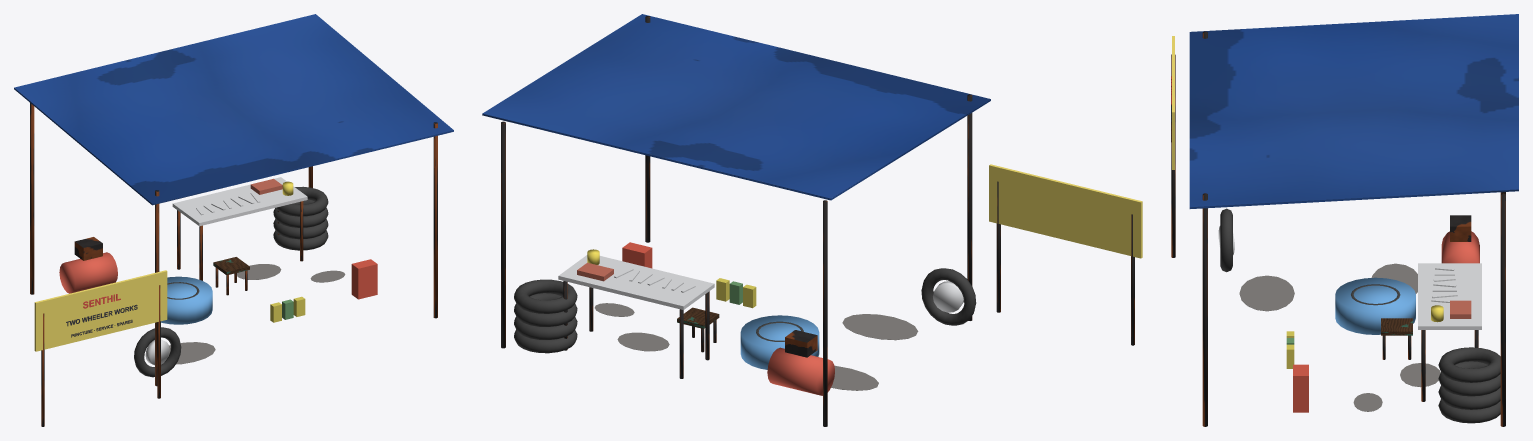
Rendered from roadside_mechanic.glb.
3 renders of one model, left to right at view 1: azimuth 30°, elevation 25°; view 2: azimuth 150°, elevation 25°; view 3: azimuth 270°, elevation 25°, orthographic. The views are drawn at different scales.
Visible parts, largest first — view 1: roadside_mechanic; view 2: roadside_mechanic; view 3: roadside_mechanic.
Boxes of the visible parts, x1=… form: roadside_mechanic: x1=14, y1=14, x2=453, y2=426; roadside_mechanic: x1=482, y1=14, x2=1142, y2=426; roadside_mechanic: x1=1171, y1=14, x2=1518, y2=426.
Size of the model in its own units: 5.5 by 2.52 by 3.27.
Materials: 17 (3 with a texture image).
